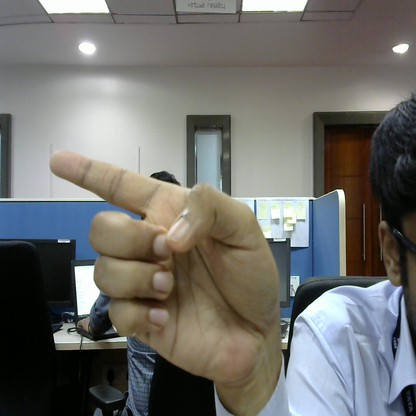g: (36, 144, 284, 388)
